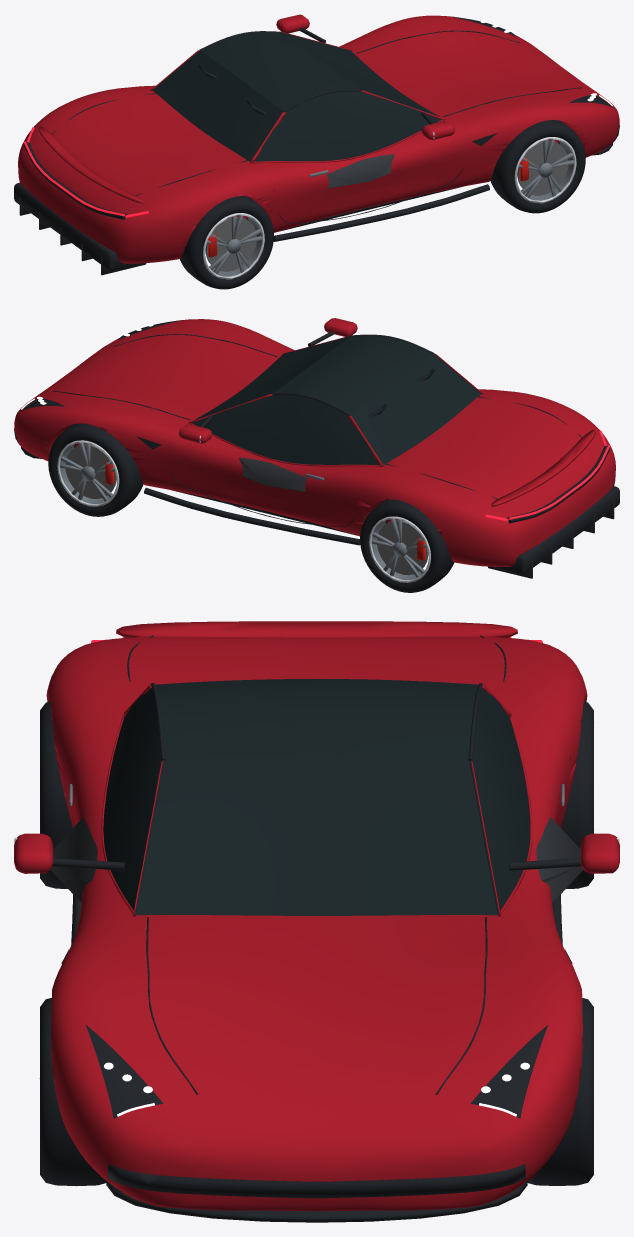
File: car.glb
3 renders of one model, top to bottom at view 1: azimuth 30°, elevation 25°; view 2: azimuth 150°, elevation 25°; view 3: azimuth 270°, elevation 25°, orthographic. The views are drawn at different scales.
Parts seen in each view (by area): view 1: CarBody, Wheel_Front_Right, Wheel_Rear_Right; view 2: CarBody, Wheel_Front_Left, Wheel_Rear_Left; view 3: CarBody, Wheel_Front_Right, Wheel_Front_Left, Wheel_Rear_Right, Wheel_Rear_Left.
Part boxes in pixels (left/top/right/bottom): CarBody: left=14, top=14, right=619, bottom=275; Wheel_Front_Right: left=490, top=120, right=585, bottom=213; Wheel_Rear_Right: left=179, top=196, right=273, bottom=289; CarBody: left=14, top=318, right=619, bottom=578; Wheel_Front_Left: left=48, top=423, right=143, bottom=516; Wheel_Rear_Left: left=360, top=499, right=454, bottom=592; CarBody: left=14, top=621, right=619, bottom=1222; Wheel_Front_Right: left=39, top=998, right=106, bottom=1186; Wheel_Front_Left: left=527, top=998, right=593, bottom=1185; Wheel_Rear_Right: left=40, top=701, right=72, bottom=888; Wheel_Rear_Left: left=561, top=701, right=593, bottom=888.
Size of the model in its own units: 4.51 by 1.23 by 2.33.
